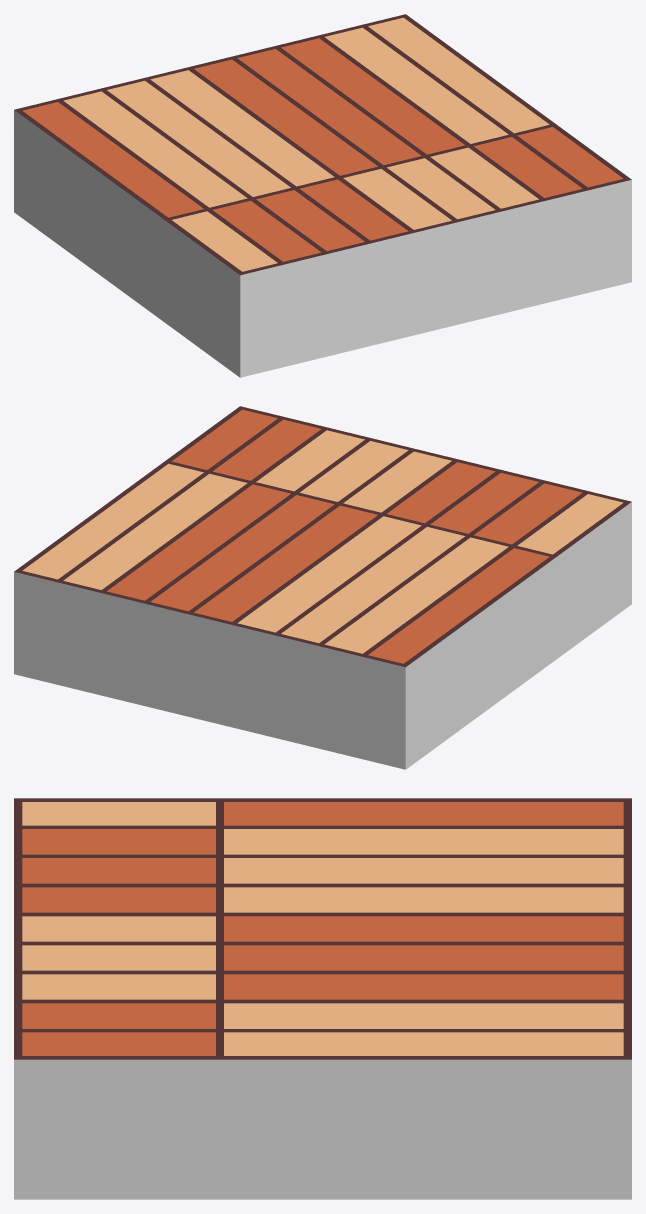
File: Prop_GroundBase_08.fbx
3 views of the same model, one above another, from view 1: azimuth 30°, elevation 25°; view 2: azimuth 150°, elevation 25°; view 3: azimuth 270°, elevation 25° (orthographic). The views are drawn at different scales.
Visible parts, largest first — view 1: Prop_GroundBase_08; view 2: Prop_GroundBase_08; view 3: Prop_GroundBase_08.
Part boxes in pixels (bbox=[...]): Prop_GroundBase_08: bbox=[14, 14, 631, 377]; Prop_GroundBase_08: bbox=[14, 406, 631, 769]; Prop_GroundBase_08: bbox=[14, 798, 631, 1199].
Size of the model in its own units: 200 by 50 by 200.
